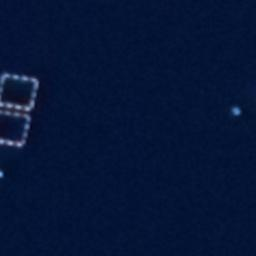square_solid: (1, 67, 41, 115), (1, 105, 37, 152)
